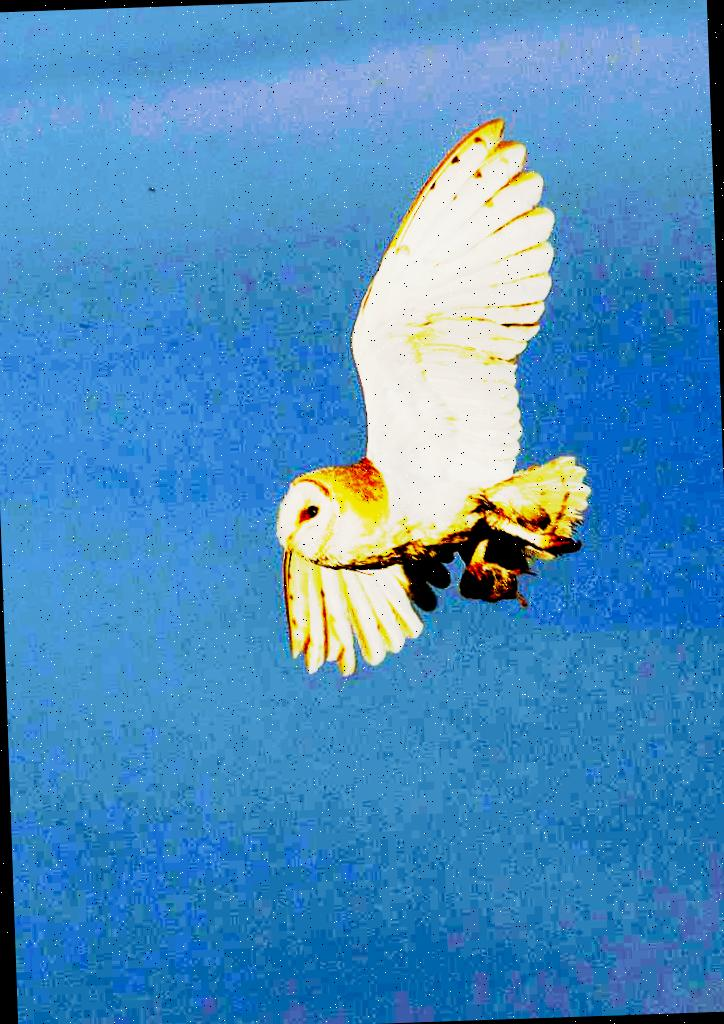Owl: (262, 110, 594, 682)
